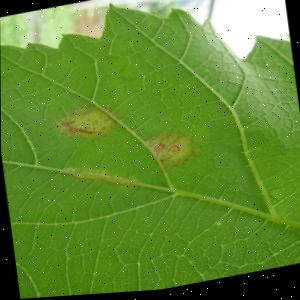Folha: (0, 0, 300, 300)
Fungo: (53, 101, 119, 148), (143, 127, 198, 176), (167, 148, 180, 156), (153, 146, 165, 154)
